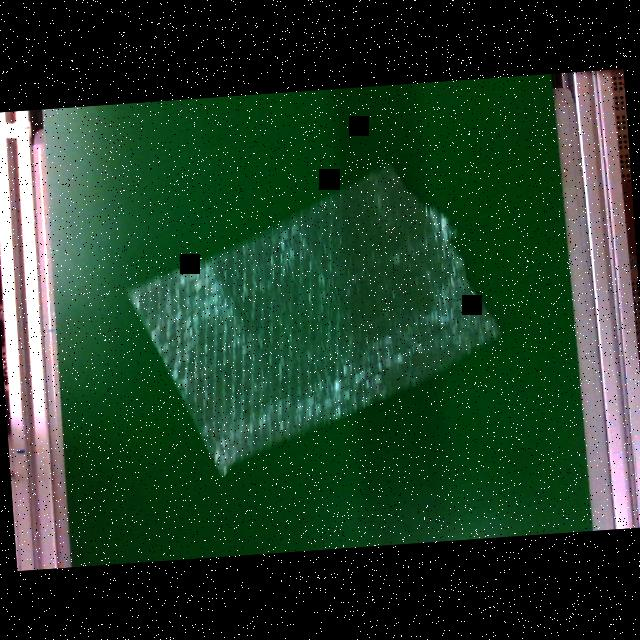scrap_plastic: (111, 128, 514, 492)
